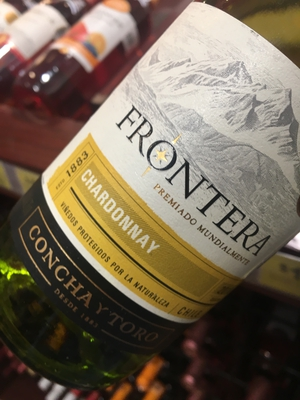frontera chardonnay: (6, 8, 298, 339)
